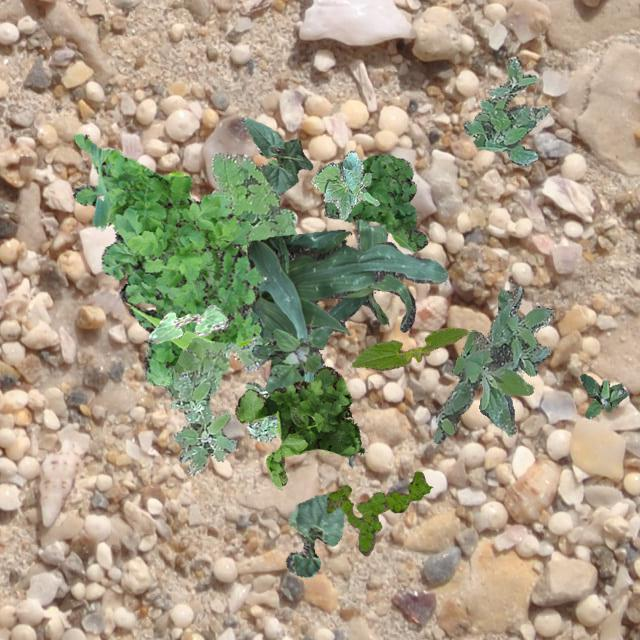crop: (246, 228, 447, 466), (326, 217, 414, 331), (240, 115, 312, 193), (350, 326, 468, 369), (284, 492, 342, 576), (310, 150, 378, 220), (146, 304, 226, 342)
weed: (72, 133, 266, 384), (165, 152, 295, 398), (432, 284, 554, 442), (235, 366, 362, 488), (324, 152, 426, 250), (462, 54, 548, 166), (324, 470, 430, 554), (170, 370, 237, 474), (252, 324, 331, 392), (578, 372, 628, 418), (244, 382, 278, 441)
